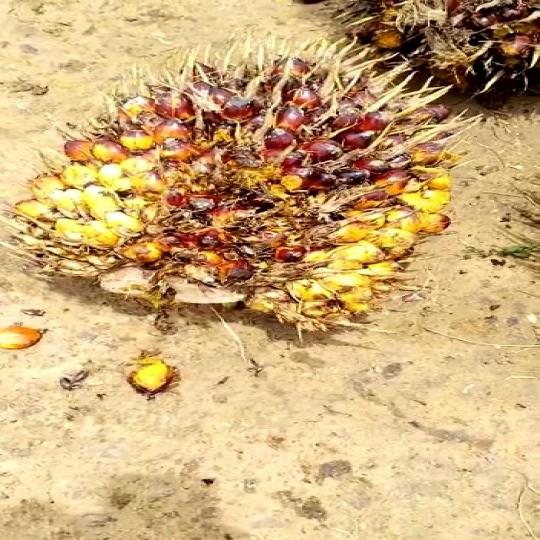masak: (19, 61, 465, 348)
